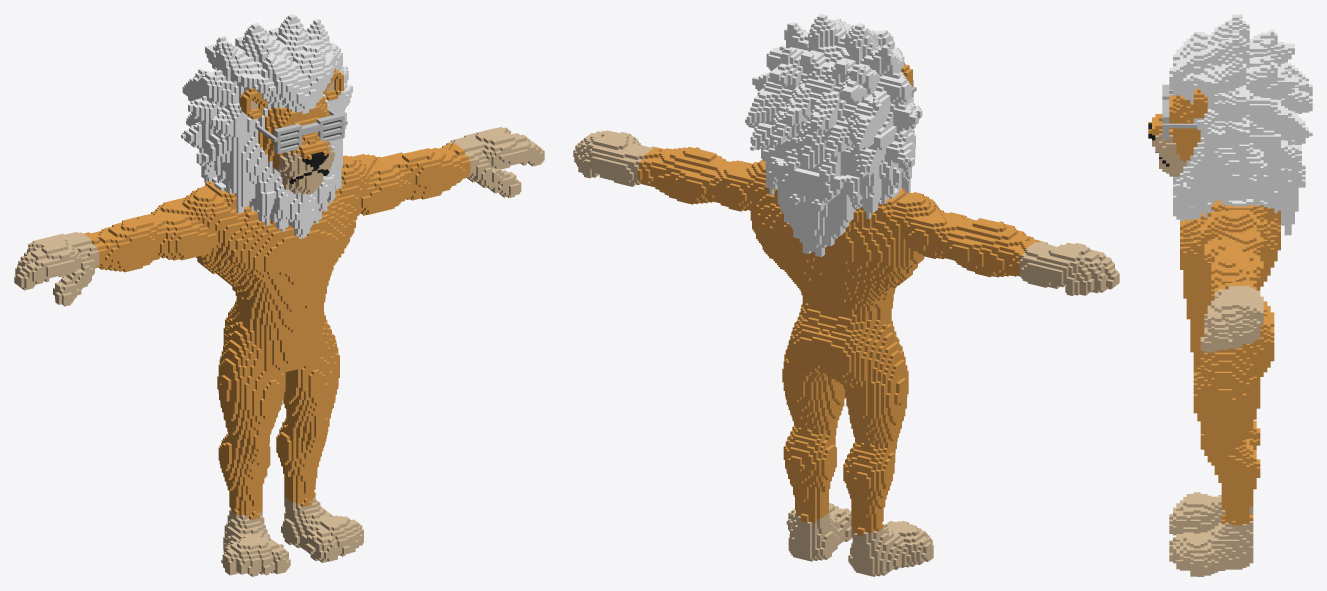
The picture shows the model from 3 angles, left to right: view 1: azimuth 30°, elevation 25°; view 2: azimuth 150°, elevation 25°; view 3: azimuth 270°, elevation 25°; orthographic projection. The views are drawn at different scales.
Visible parts, largest first — view 1: sad; view 2: sad; view 3: sad.
Boxes of the visible parts, <box> form: sad: <box>14,14,544,576</box>; sad: <box>573,14,1119,576</box>; sad: <box>1148,14,1312,576</box>.
Size of the model in its own units: 17.2 by 16.5 by 4.7.
Materials: 4 (4 with a texture image).
